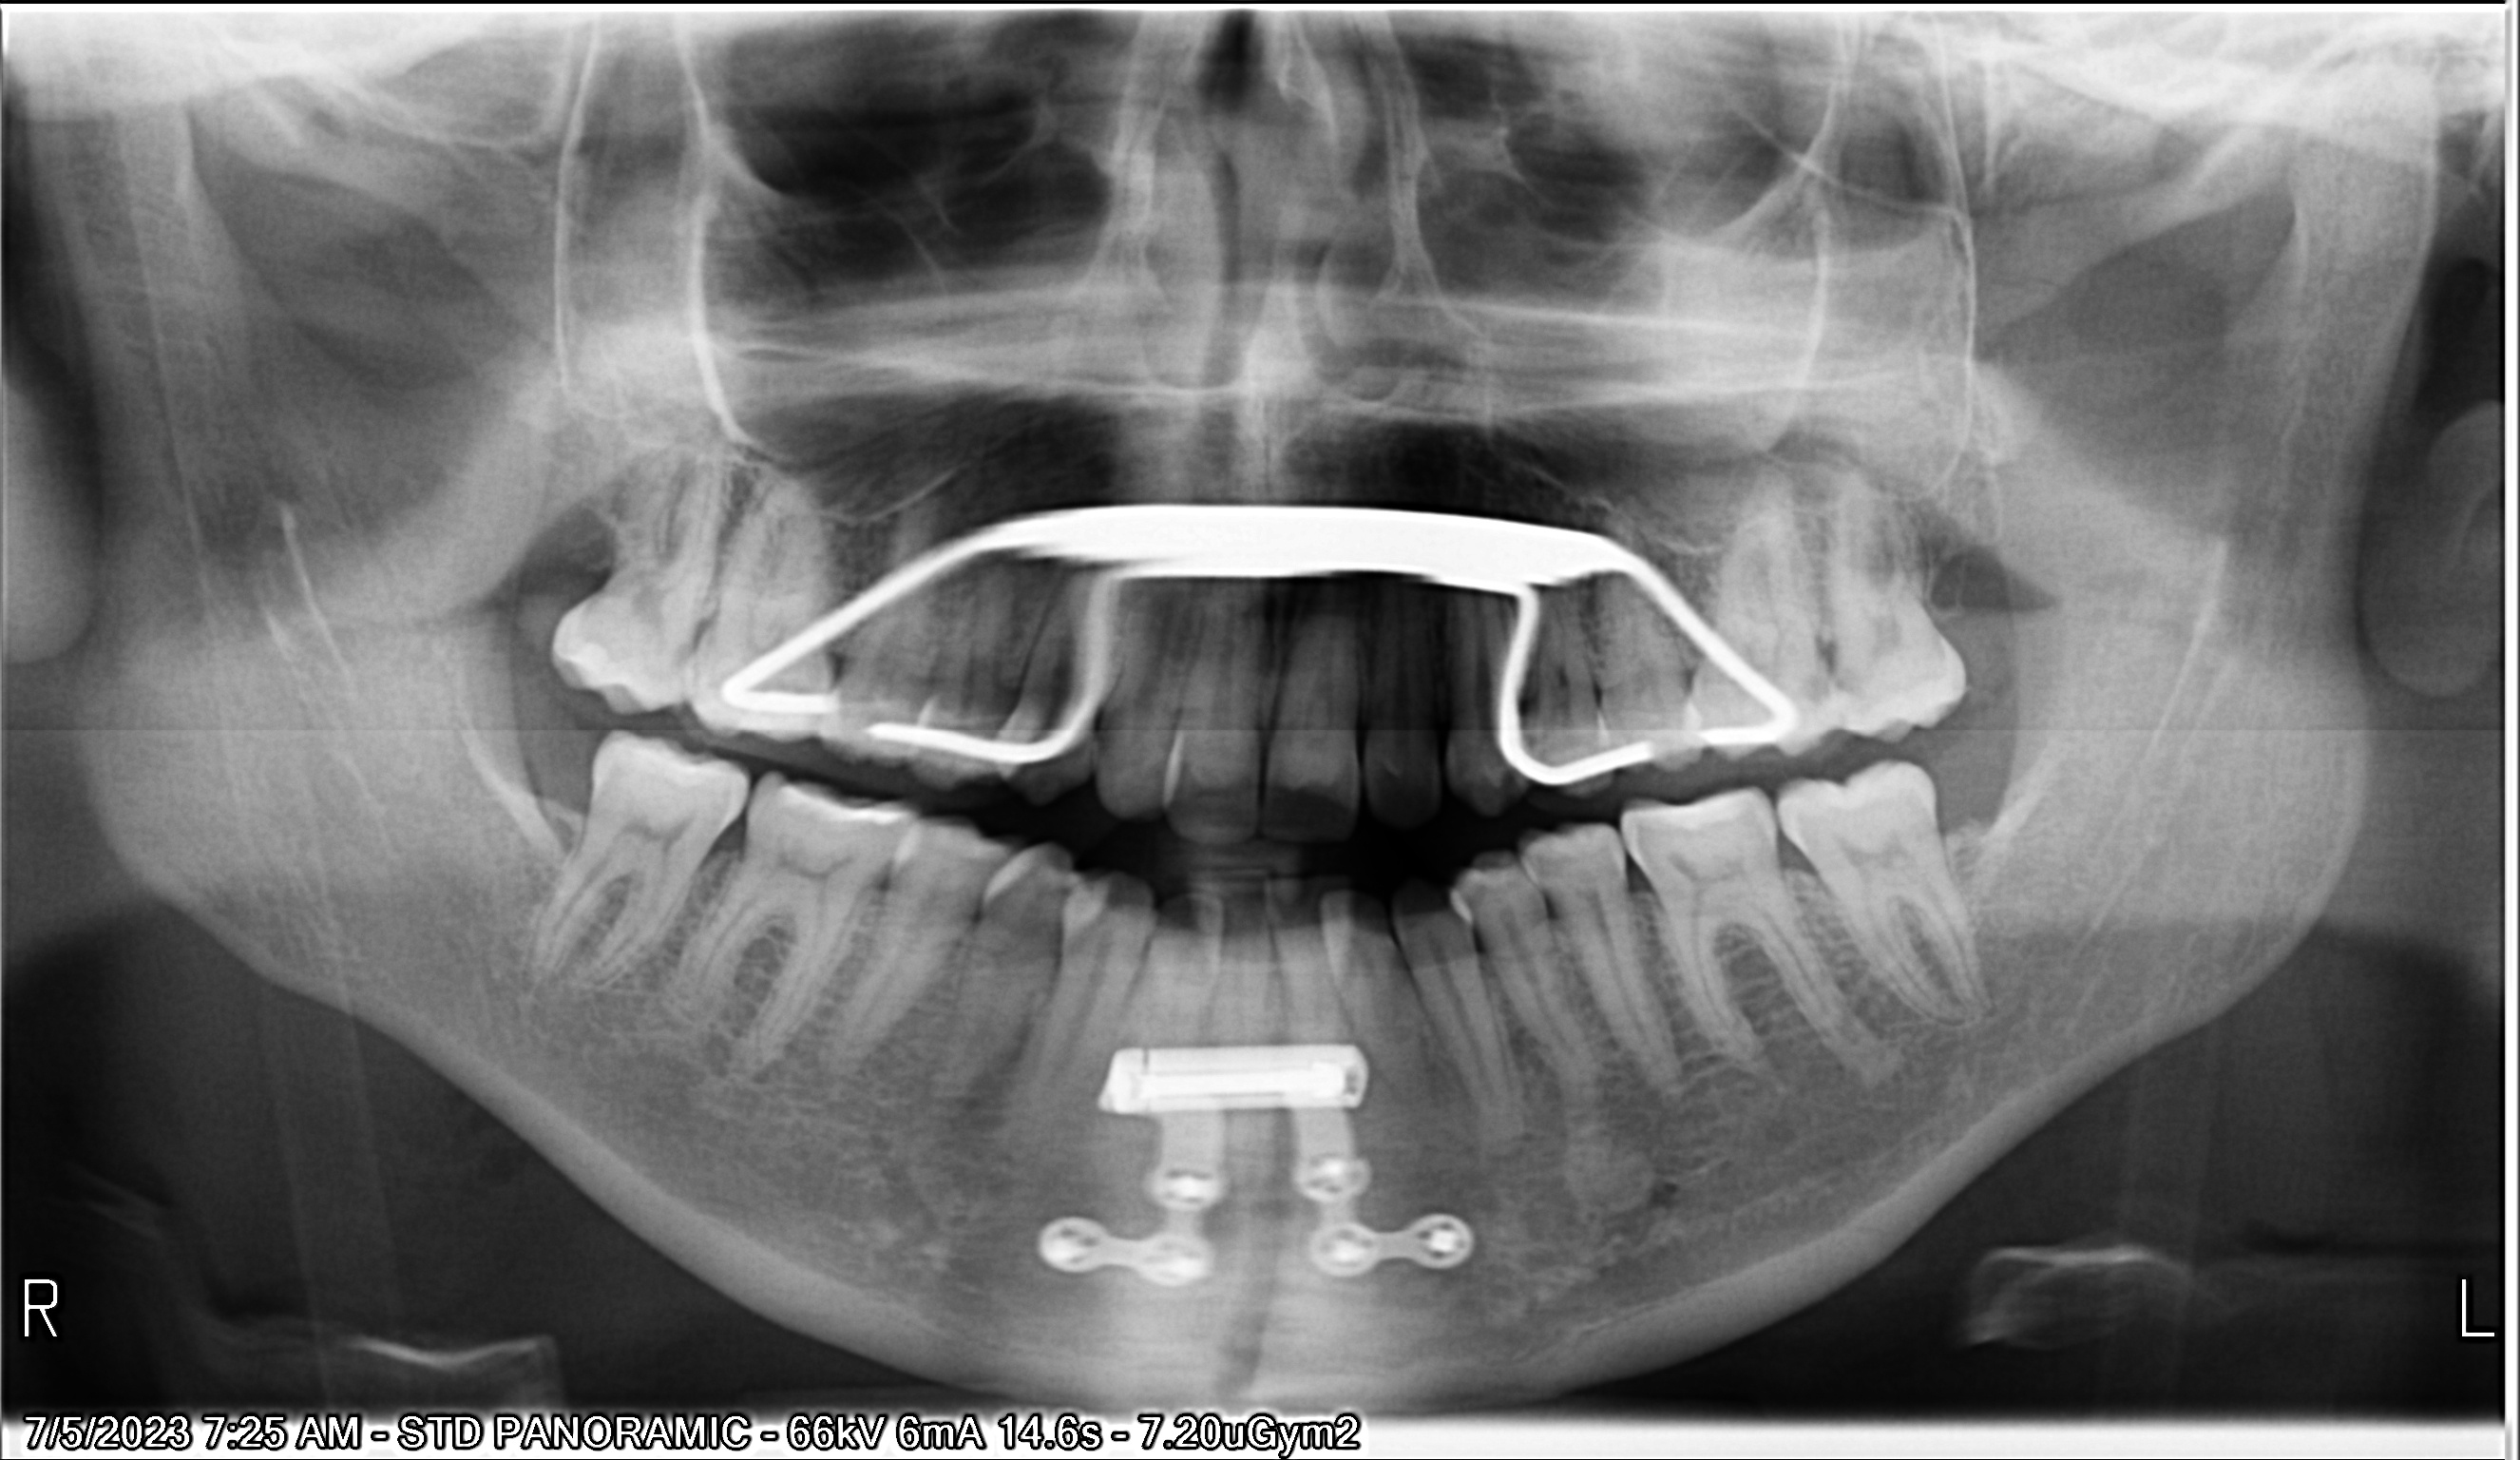CAR: (1791, 657, 1839, 709), (1532, 853, 1567, 886)
ORD: (729, 462, 1801, 782), (1009, 1020, 1497, 1304)
